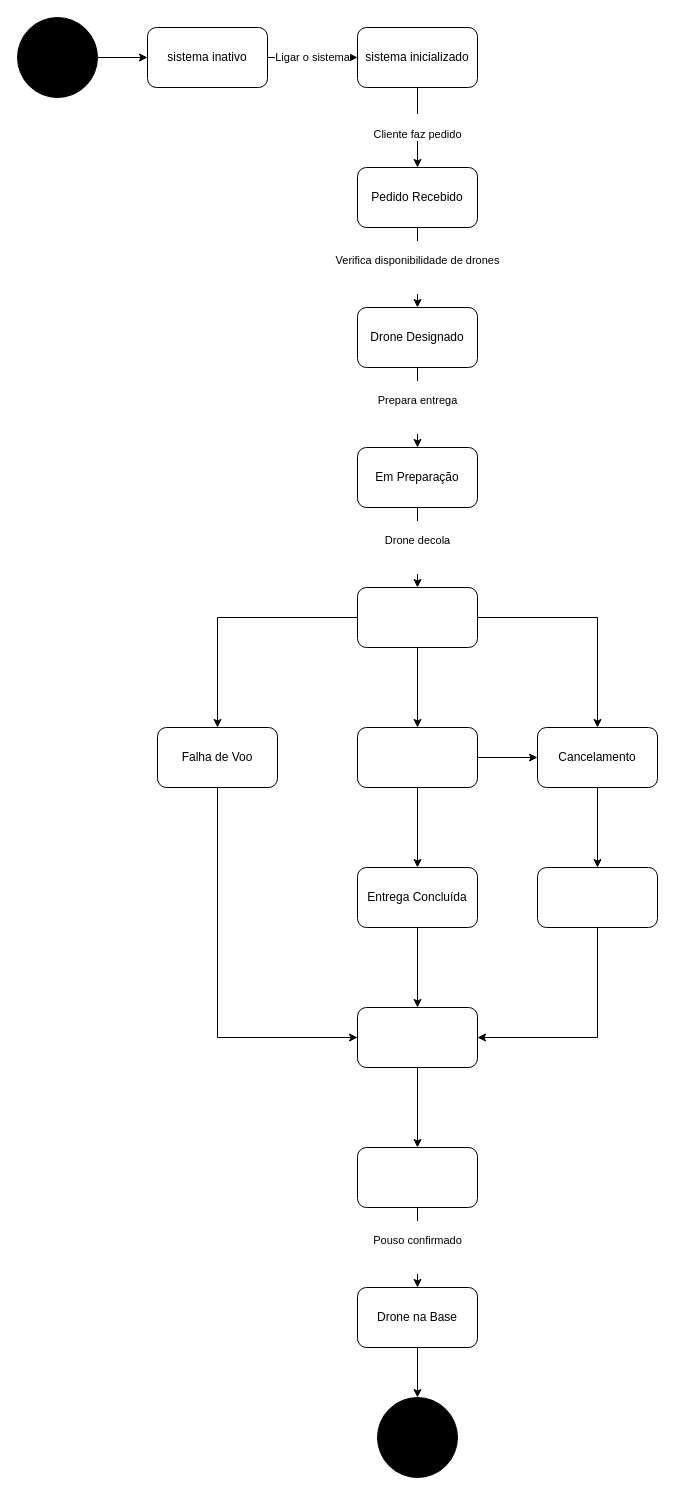
Image size: 675x1495. Some labels were removed from this diagram. The shapes that lost their labels are listed below. From the top down, each one's centre as x and y in pixels, then its label:
At pixel 417 617: "Drone em Voo".
At pixel 417 757: "Em Entrega".
At pixel 597 897: "Entrega Cancelada".
At pixel 417 1037: "Retornar à base".
At pixel 417 1177: "Drone Retornando".
